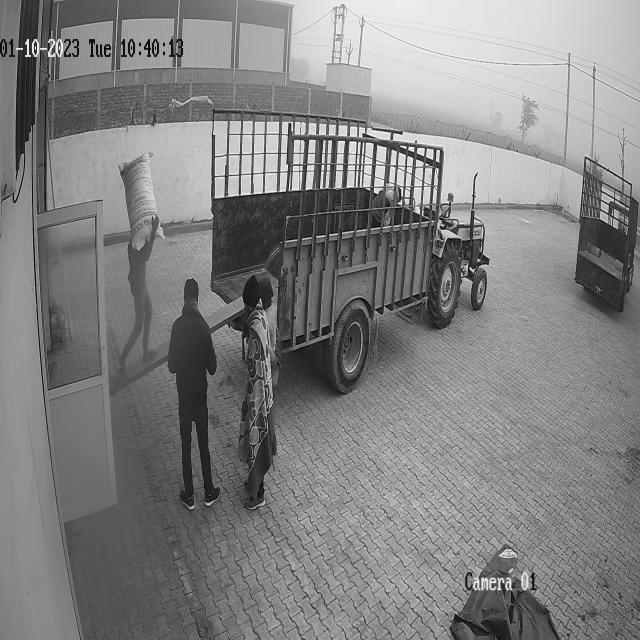sack: (118, 152, 164, 249)
